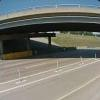Bridge: (4, 4, 99, 46)
